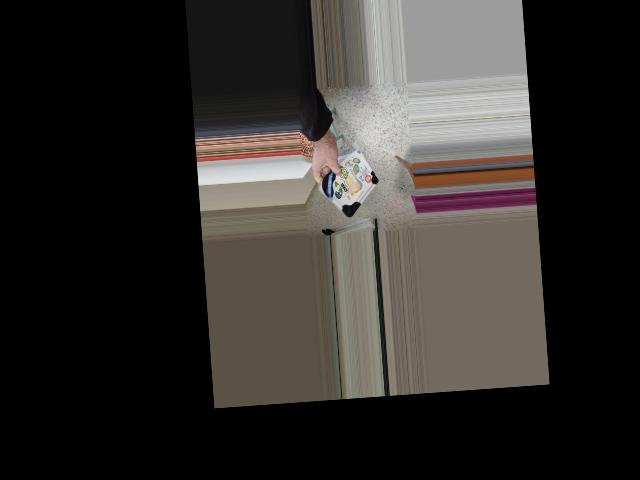cheese: (303, 157, 383, 211)
